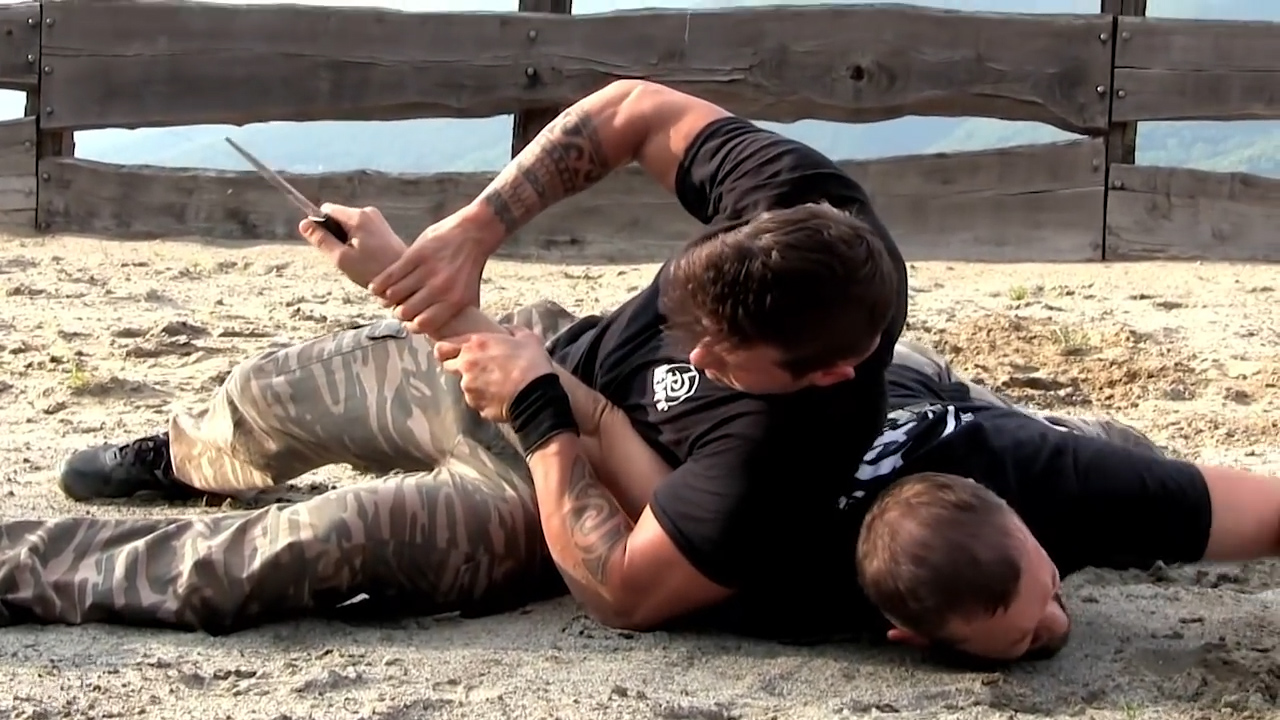knife: (219, 126, 370, 299)
